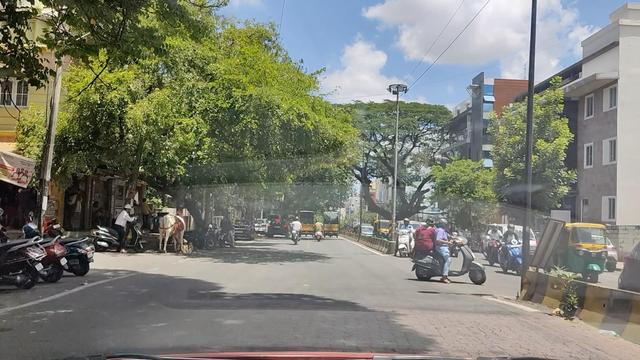LMV: (408, 216, 482, 281)
